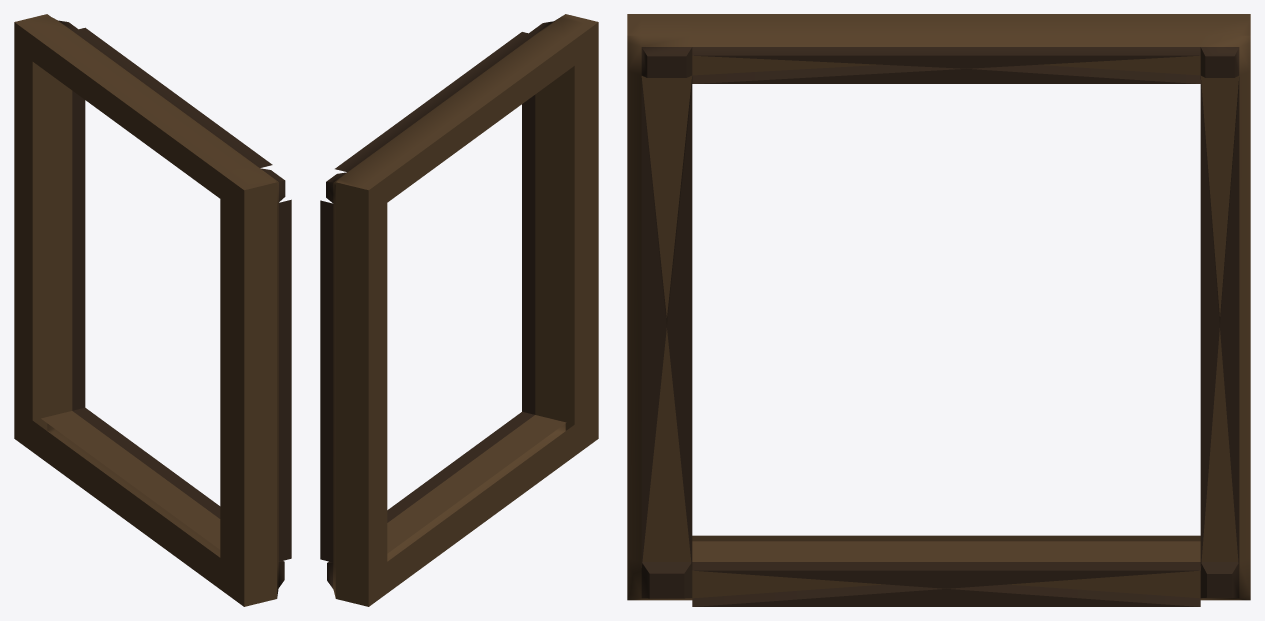
The model's file is cornice2.fbx.
3 renders of one model, left to right at view 1: azimuth 30°, elevation 25°; view 2: azimuth 150°, elevation 25°; view 3: azimuth 270°, elevation 25°, orthographic. The views are drawn at different scales.
Parts seen in each view (by area): view 1: Cube; view 2: Cube; view 3: Cube.
Part boxes in pixels (x1=…): Cube: x1=14, y1=14, x2=291, y2=606; Cube: x1=320, y1=14, x2=598, y2=606; Cube: x1=627, y1=14, x2=1250, y2=606.
Bounding box in the file's own units: 13.24 × 100 × 100.
